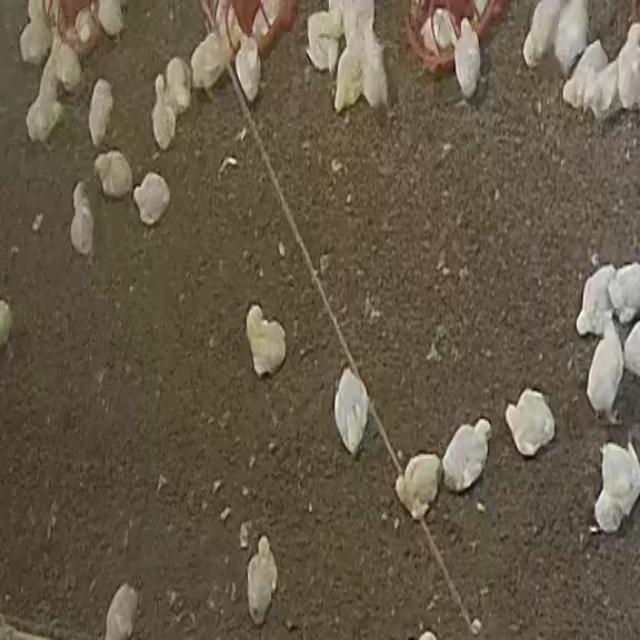chicken: (588, 440, 640, 535), (576, 320, 624, 420), (355, 10, 401, 110), (441, 414, 495, 494), (504, 386, 558, 458), (332, 365, 372, 456), (244, 531, 282, 624), (244, 300, 288, 377), (574, 262, 618, 338), (395, 453, 442, 522), (328, 38, 368, 116), (560, 47, 604, 113), (514, 2, 555, 71), (30, 74, 66, 151), (611, 22, 640, 114), (190, 34, 229, 102), (555, 0, 590, 73), (67, 181, 97, 262), (144, 74, 172, 160), (451, 19, 481, 97), (298, 14, 340, 69), (132, 171, 170, 230), (44, 29, 82, 87), (82, 77, 114, 144), (18, 0, 52, 62), (104, 580, 139, 640), (237, 36, 266, 108), (609, 257, 639, 324), (91, 150, 133, 197), (165, 54, 190, 122), (90, 0, 130, 39)
